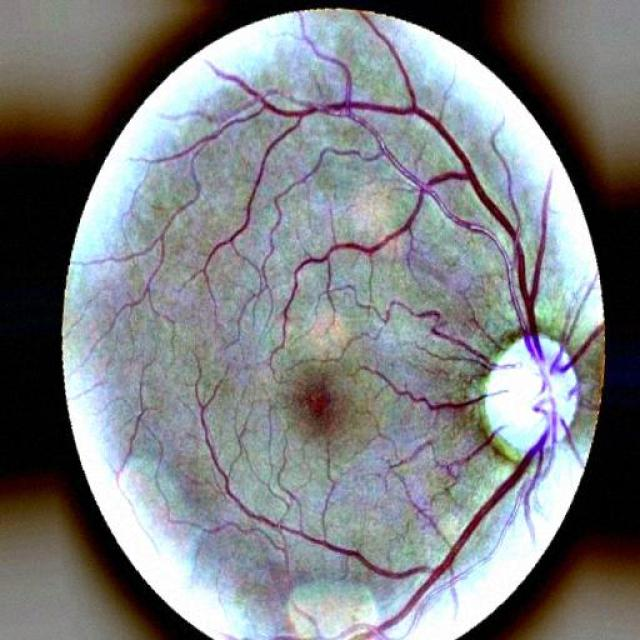Macula: (286, 372, 346, 438)
Nerves: (206, 12, 546, 346), (366, 490, 501, 639), (250, 512, 420, 579), (524, 324, 604, 462), (380, 300, 495, 376), (361, 366, 486, 411)
Optic Disk: (482, 335, 579, 462)
